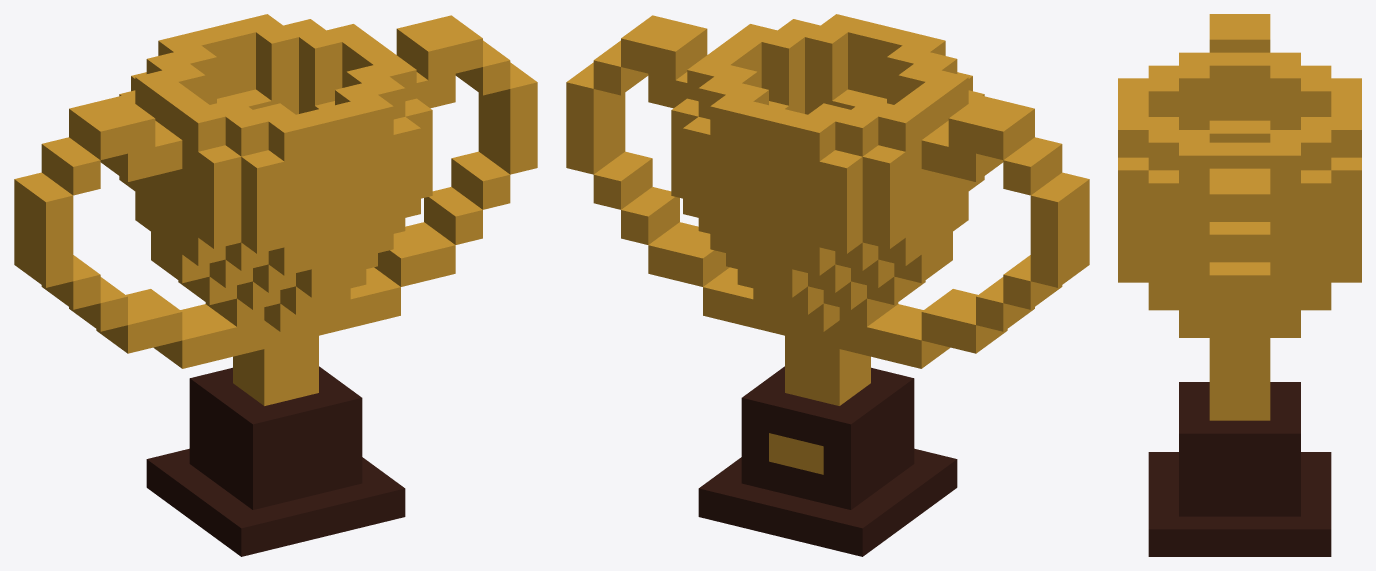
File: trophy.glb
The picture shows the model from 3 angles, left to right: view 1: azimuth 30°, elevation 25°; view 2: azimuth 150°, elevation 25°; view 3: azimuth 270°, elevation 25°; orthographic projection. The views are drawn at different scales.
Parts seen in each view (by area): view 1: model; view 2: model; view 3: model.
Part boxes in pixels (bbox=[...]): model: bbox=[14, 14, 537, 556]; model: bbox=[566, 14, 1089, 556]; model: bbox=[1118, 14, 1361, 556].
Bounding box in the file's own units: 1.8 × 1.5 × 0.8.
